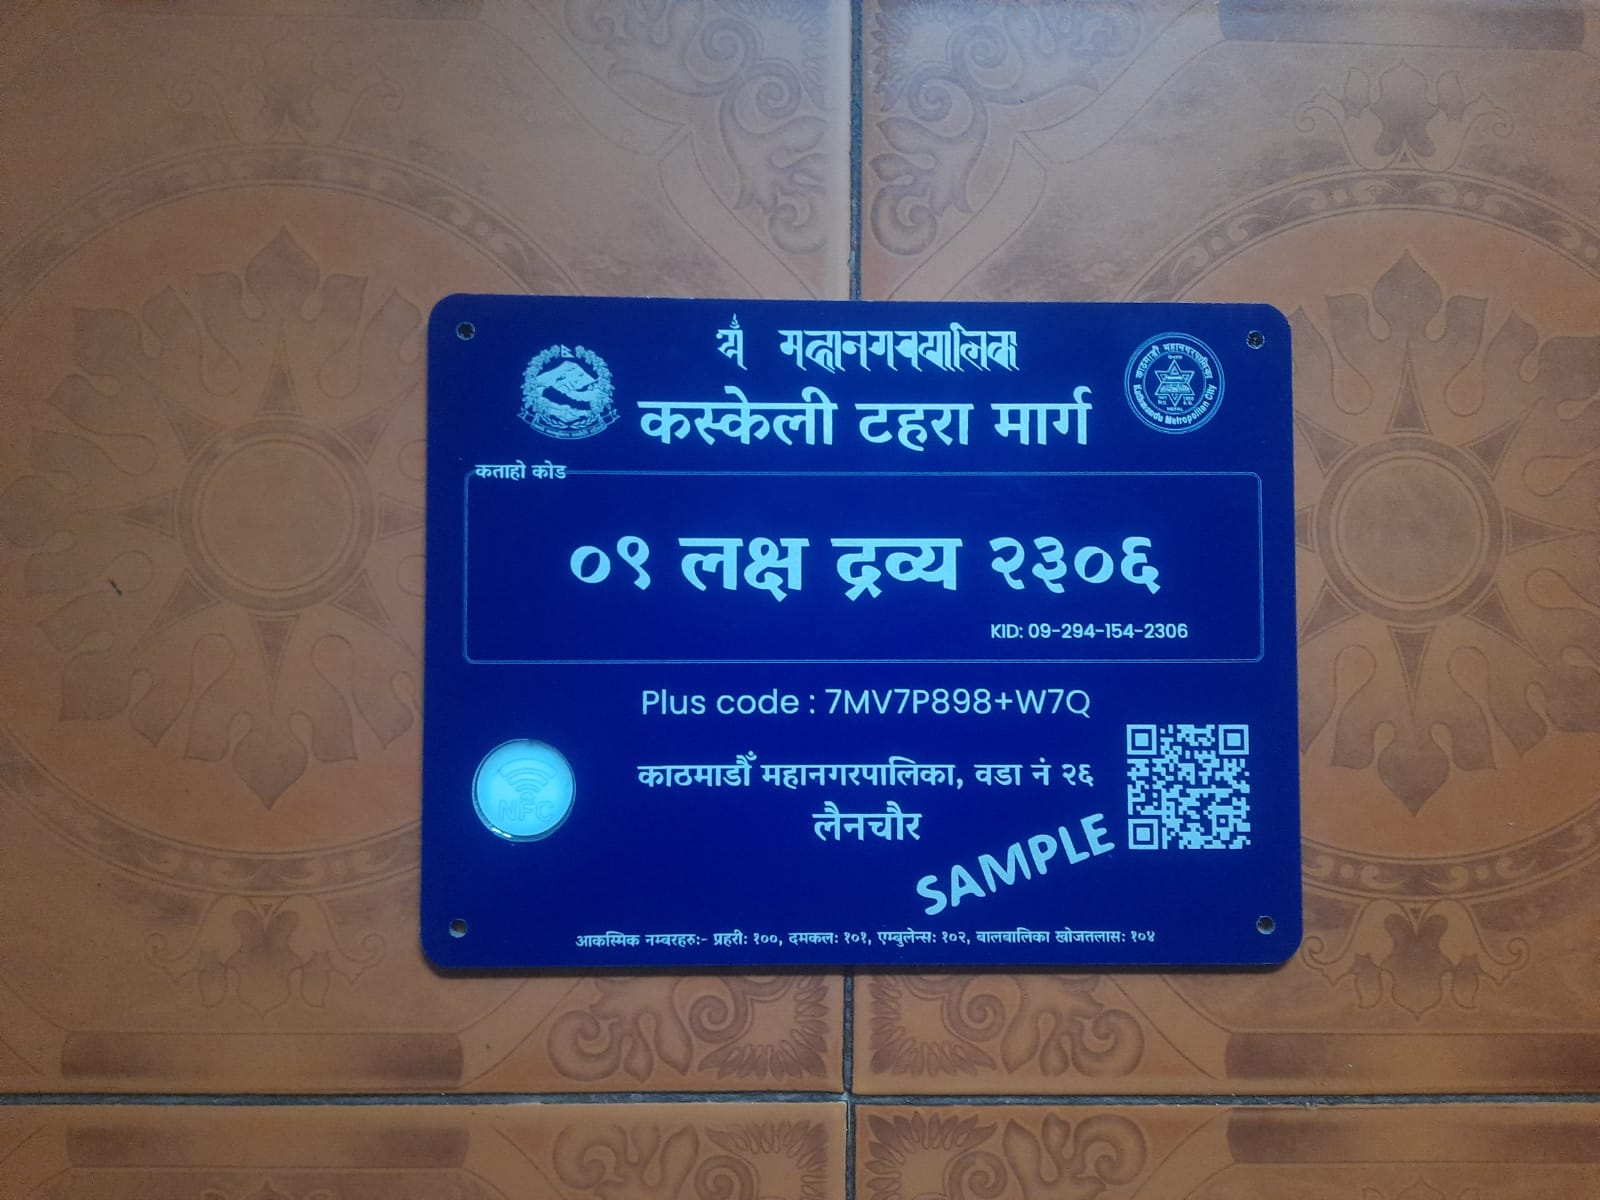Plate: (412, 290, 1311, 983)
